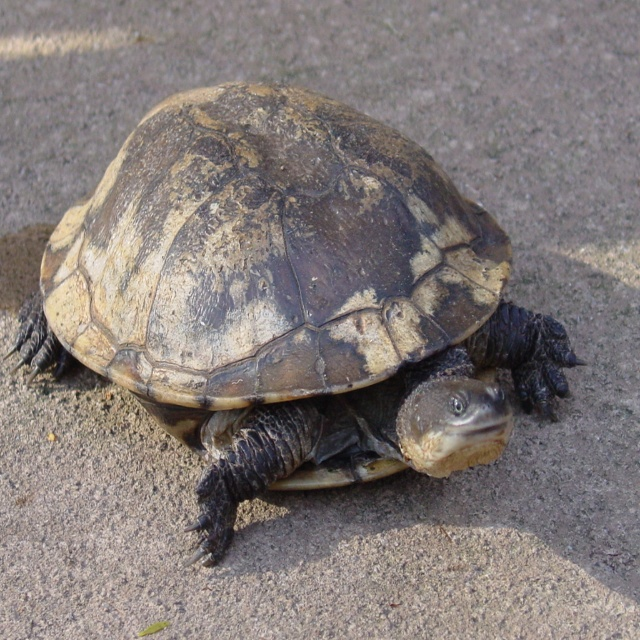Sea turtle: (0, 74, 584, 577)
